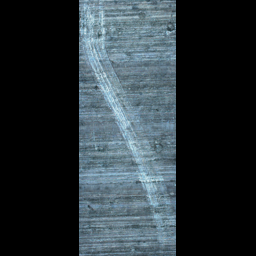d: (79, 0, 107, 75), (143, 177, 171, 243), (126, 120, 153, 186), (102, 67, 128, 121)
